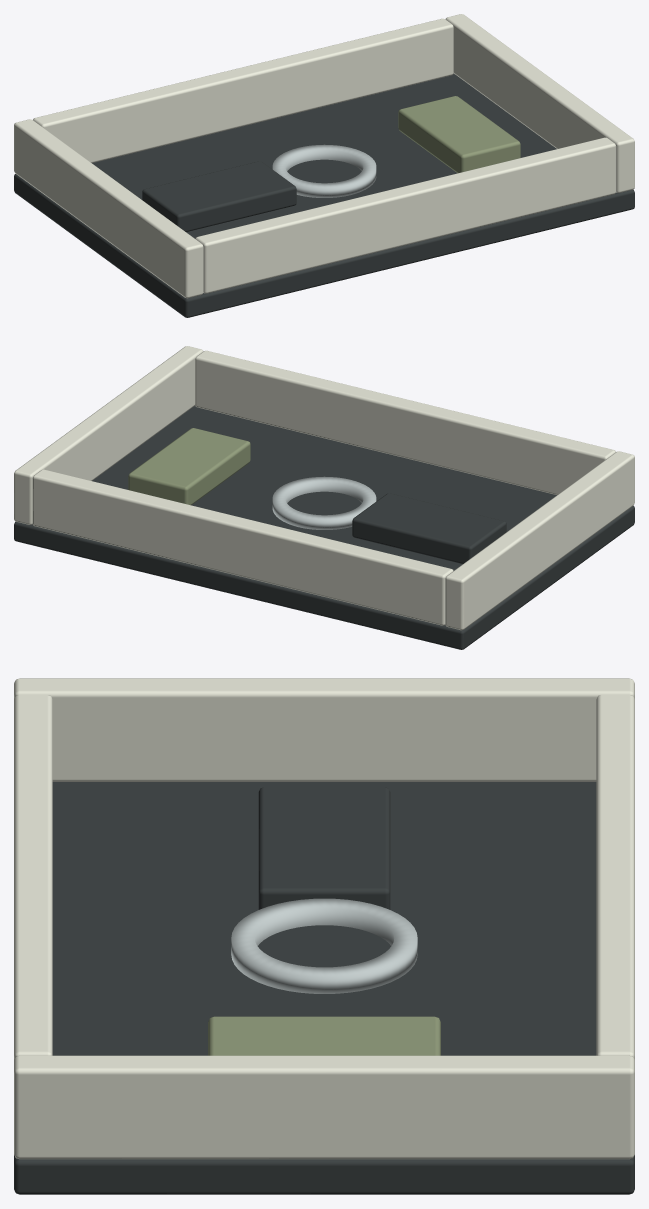
The model's file is mountain-border-checkpoint-mountain-border-checkpoint--1dbcbdf5__30313.glb.
The picture shows the model from 3 angles, top to bottom: view 1: azimuth 30°, elevation 25°; view 2: azimuth 150°, elevation 25°; view 3: azimuth 270°, elevation 25°; orthographic projection. The views are drawn at different scales.
Visible parts, largest first — view 1: mountain-border-checkpoint-personal-effects-tray; view 2: mountain-border-checkpoint-personal-effects-tray; view 3: mountain-border-checkpoint-personal-effects-tray.
Part boxes in pixels (box(x1,y1,x2,y2)): mountain-border-checkpoint-personal-effects-tray: box(14, 14, 634, 317); mountain-border-checkpoint-personal-effects-tray: box(14, 346, 634, 649); mountain-border-checkpoint-personal-effects-tray: box(14, 678, 634, 1194).
Bounding box in the file's own units: 0.6 × 0.09 × 0.4.
